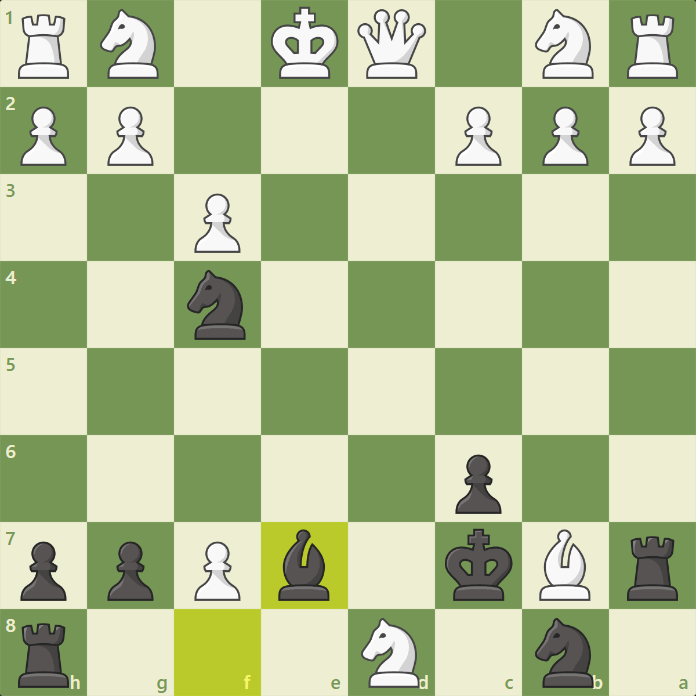B: (536, 527, 594, 604)
K: (270, 5, 341, 81)
N: (360, 616, 423, 691), (98, 7, 161, 82), (533, 7, 596, 81)
P: (17, 104, 67, 168), (193, 540, 242, 604), (193, 192, 242, 256), (106, 105, 155, 169), (453, 105, 502, 169), (541, 104, 590, 168), (628, 104, 677, 168)
Q: (355, 6, 429, 82)
R: (14, 11, 73, 81), (625, 12, 681, 81)
b: (275, 529, 331, 604)
k: (443, 527, 515, 604)
n: (186, 268, 250, 343), (533, 618, 598, 691)
p: (19, 539, 70, 603), (104, 538, 155, 602), (451, 452, 502, 516)
r: (623, 533, 682, 604), (16, 621, 73, 691)
